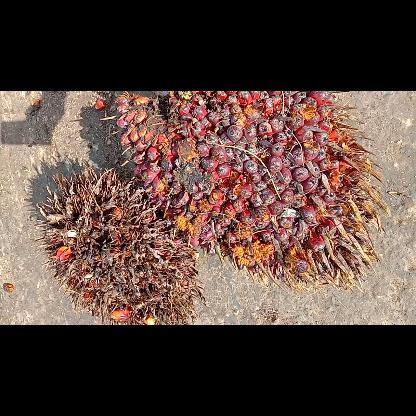TBS masak: (100, 90, 388, 292)
Terlalu masak: (34, 164, 204, 324)
